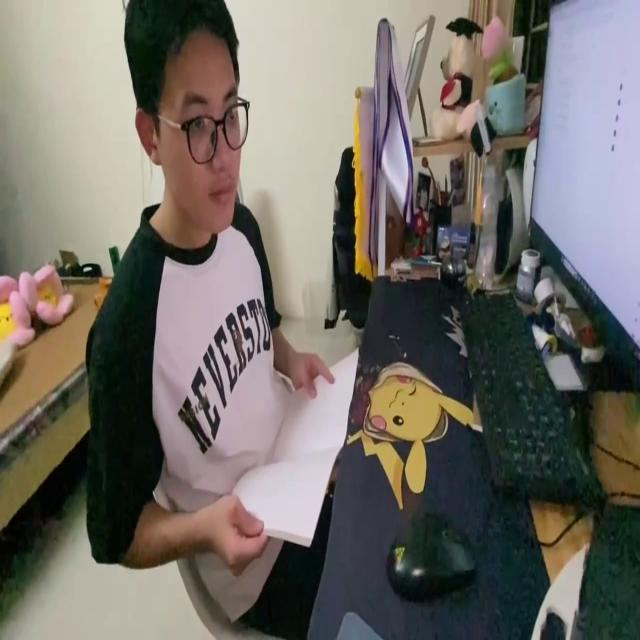book: (221, 344, 360, 556)
laptop: (522, 1, 640, 408)
student: (76, 0, 333, 636)
